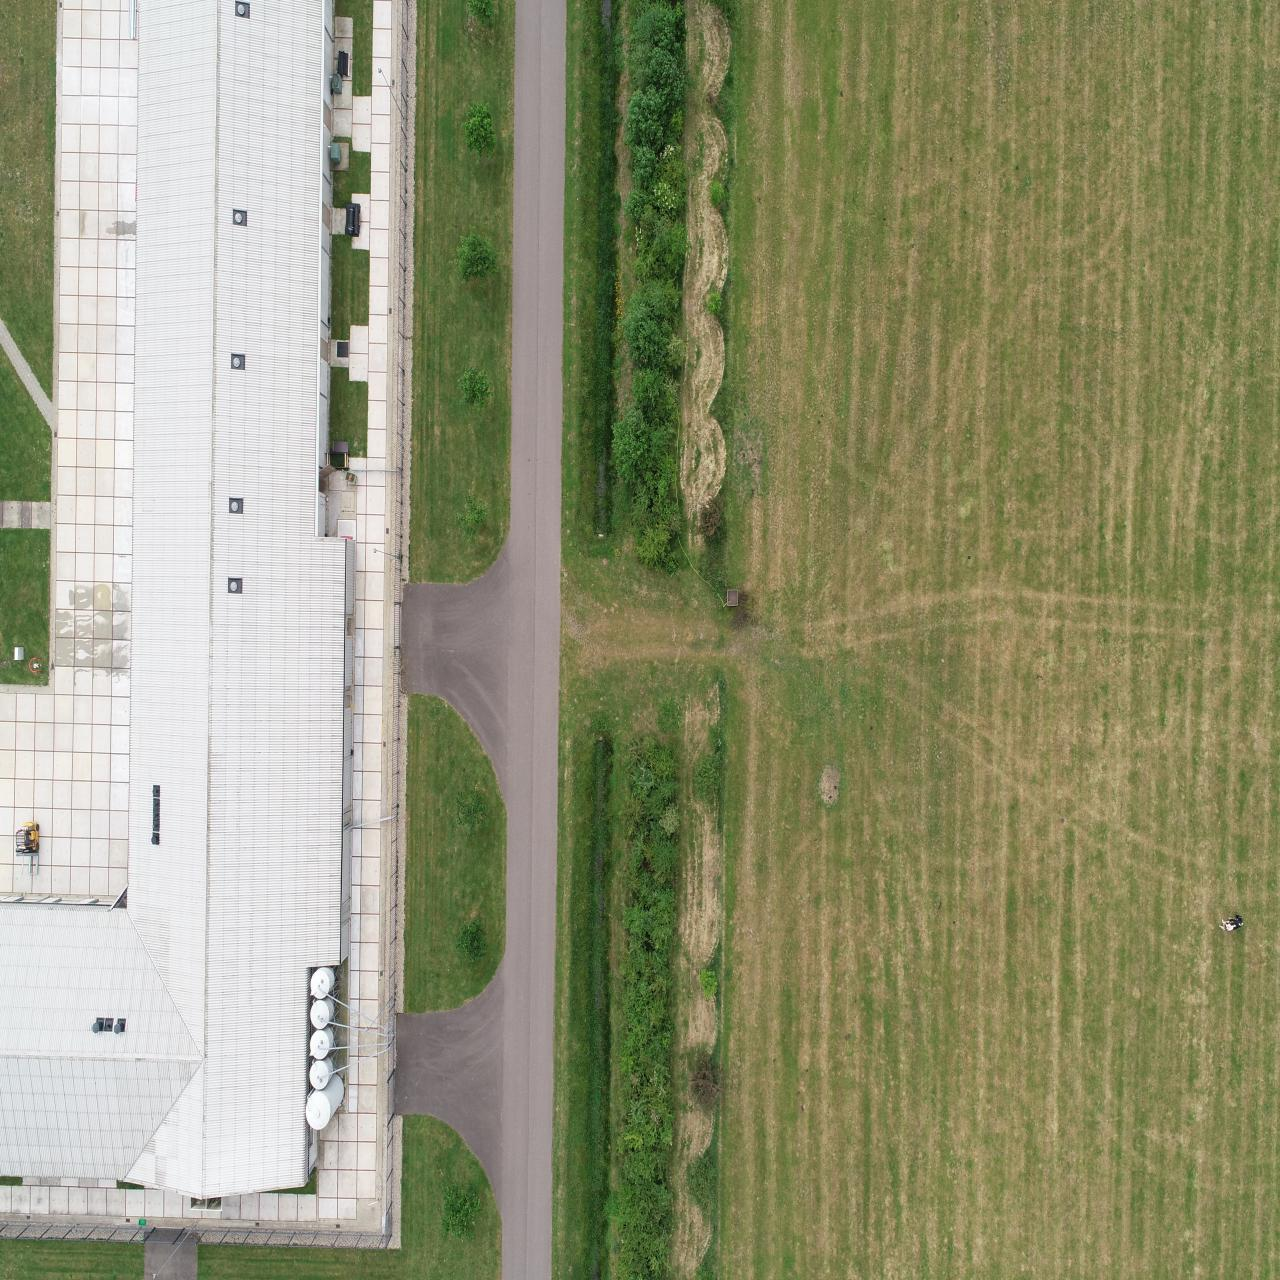cow: (1218, 914, 1245, 932)
